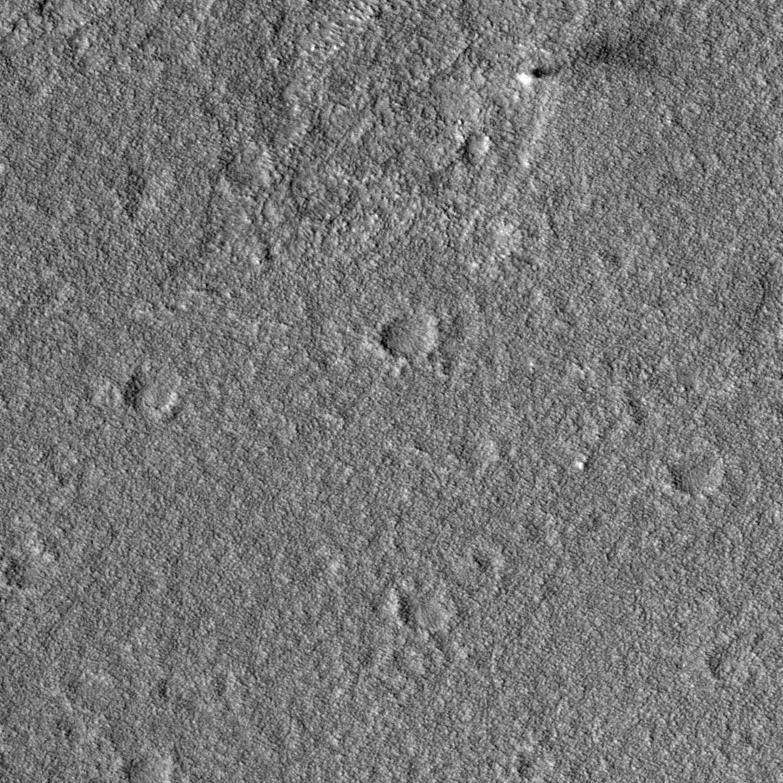dust_devil: (514, 25, 661, 88)
